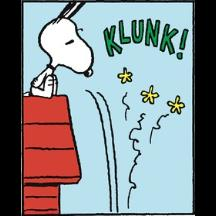snoopy: (23, 2, 94, 98)
